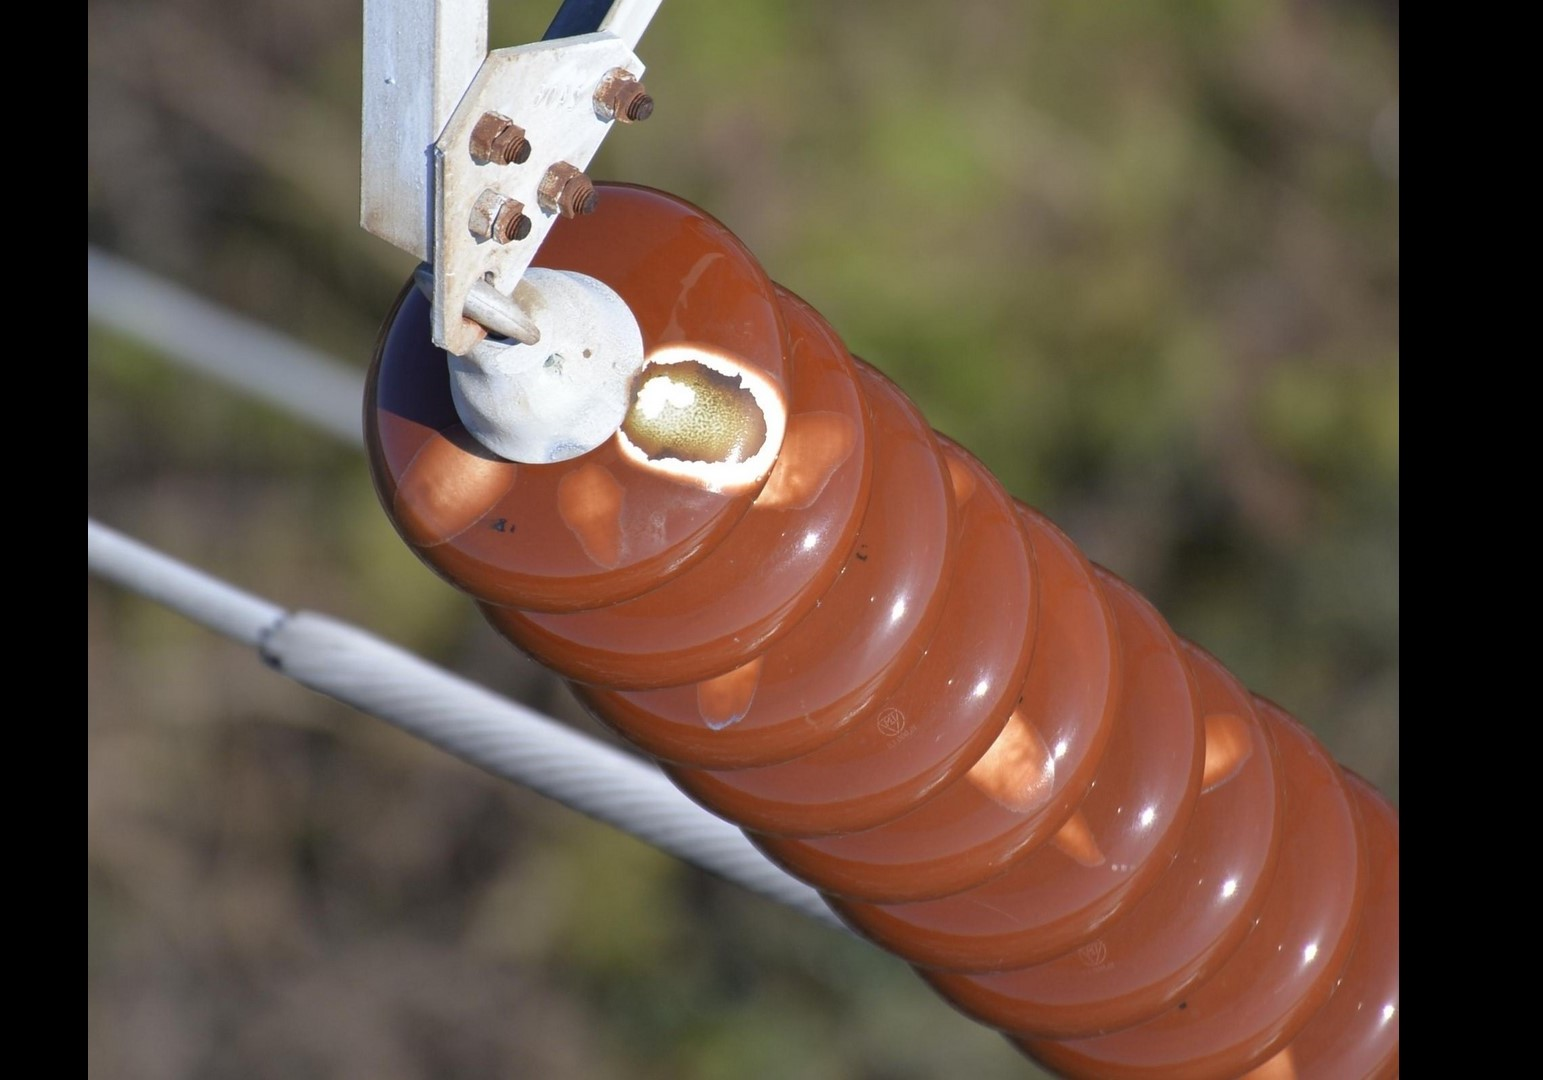Insulator flashover: (356, 168, 796, 611)
